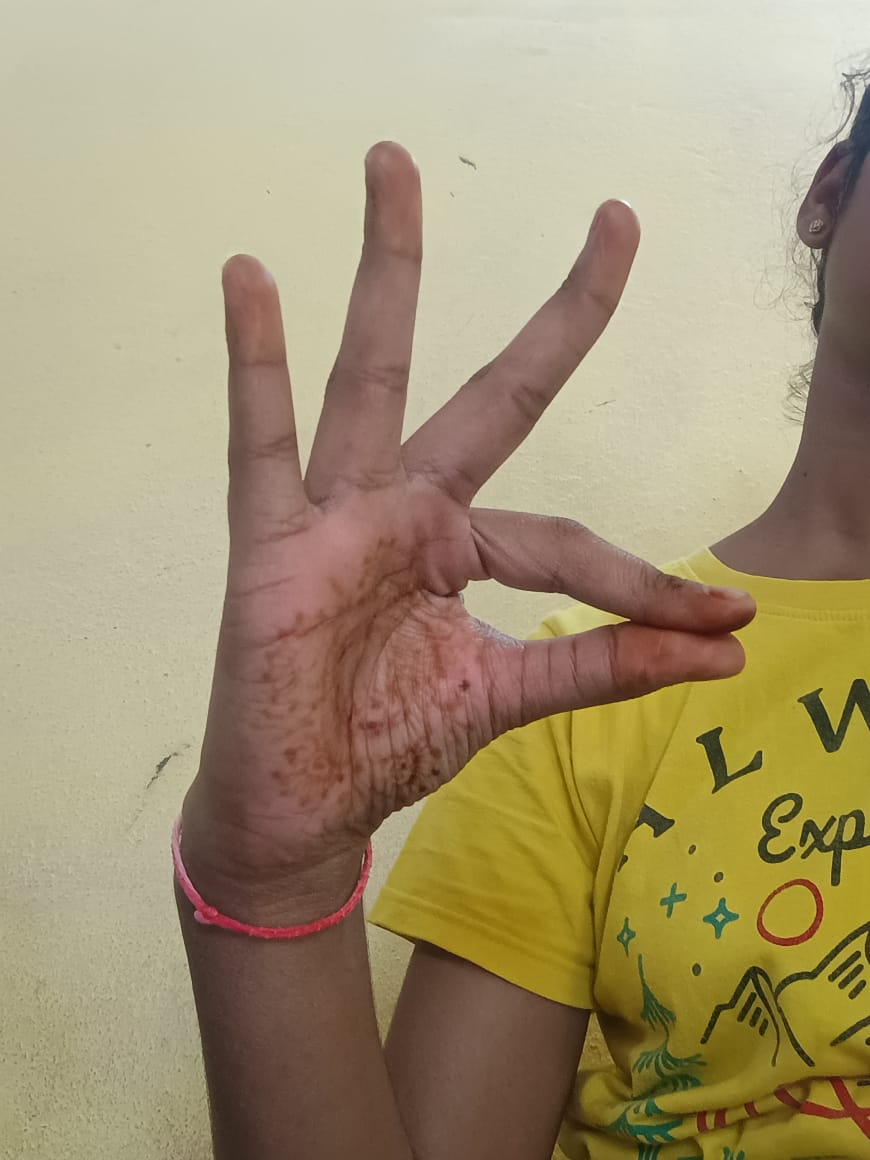F: (209, 140, 757, 863)
